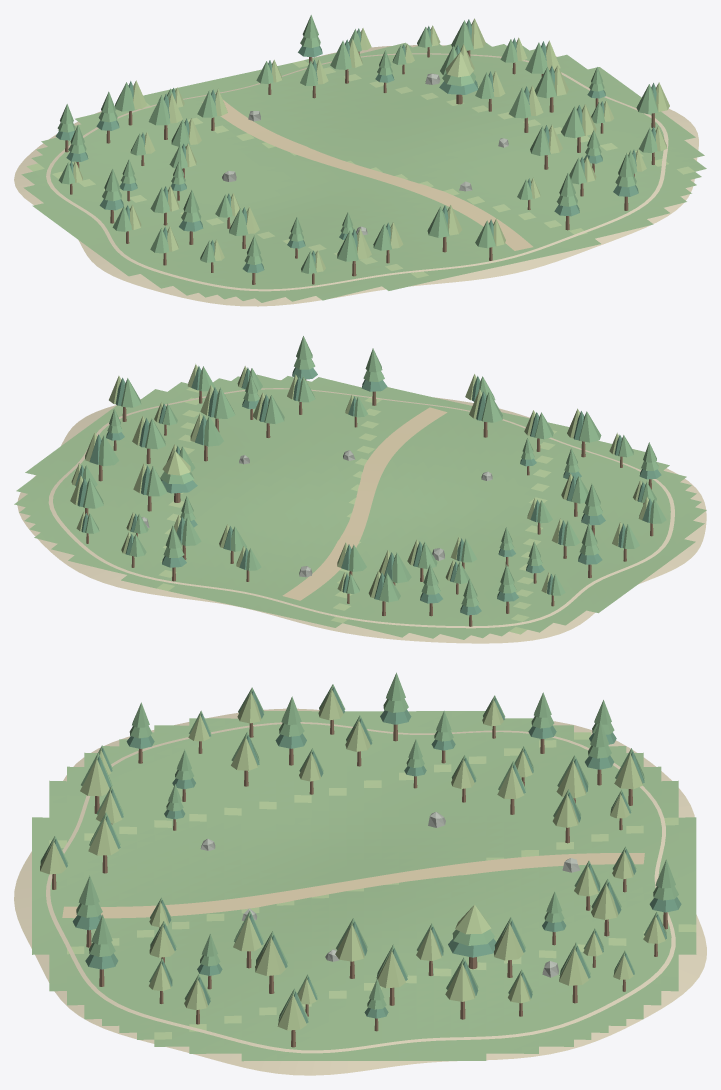
Rendered from forest-world.glb.
3 renders of one model, top to bottom at view 1: azimuth 30°, elevation 25°; view 2: azimuth 150°, elevation 25°; view 3: azimuth 270°, elevation 25°, orthographic. The views are drawn at different scales.
Parts seen in each view (by area): view 1: grass, leaf, leaf_light, sand, leaf_dark, path, grass_light, trunk, rock; view 2: grass, leaf, sand, leaf_dark, leaf_light, path, grass_light, trunk, rock; view 3: grass, leaf_light, sand, leaf, leaf_dark, path, grass_light, trunk, rock.
Boxes of the visible parts, x1,y1,x2,y2 form: grass: (21, 42, 706, 302); leaf: (57, 15, 658, 273); leaf_light: (73, 18, 669, 272); sand: (14, 45, 698, 306); leaf_dark: (55, 19, 656, 272); path: (202, 100, 532, 250); grass_light: (26, 60, 694, 277); trunk: (65, 47, 655, 284); rock: (222, 73, 508, 235); grass: (14, 374, 706, 639); leaf: (82, 336, 666, 606); sand: (17, 380, 706, 643); leaf_dark: (75, 366, 661, 615); leaf_light: (70, 364, 648, 597); path: (282, 407, 447, 600); grass_light: (156, 387, 556, 634); trunk: (85, 379, 653, 626); rock: (141, 450, 492, 577); grass: (32, 711, 696, 1061); leaf_light: (40, 689, 665, 1030); sand: (14, 708, 706, 1075); leaf: (40, 672, 678, 1020); leaf_dark: (54, 687, 681, 1023); path: (62, 853, 644, 918); grass_light: (49, 732, 696, 1039); trunk: (52, 719, 667, 1047); rock: (200, 812, 580, 977).
Size of what is drawn, in the model's own units: 83.68 by 8.3 by 66.78.
